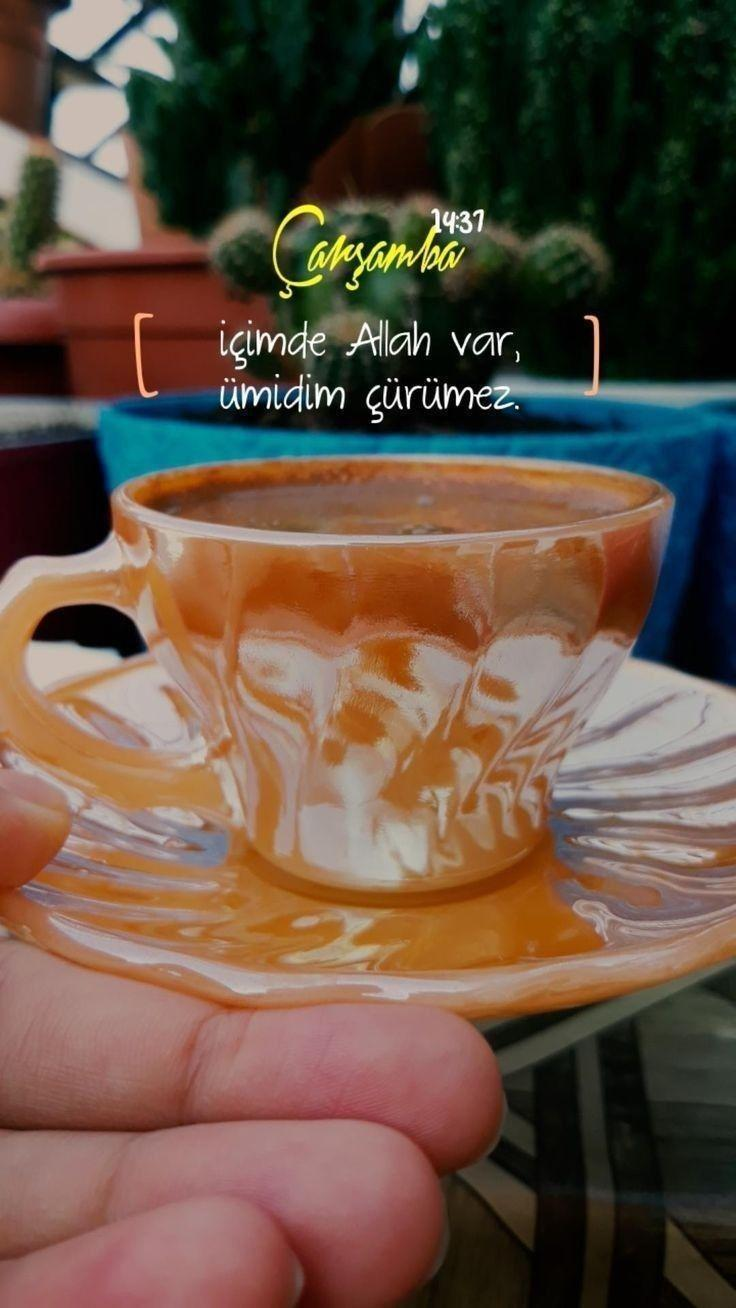cup-handle: (0, 450, 679, 899)
